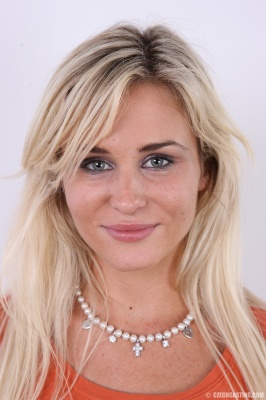Forehead: (69, 82, 190, 148)
